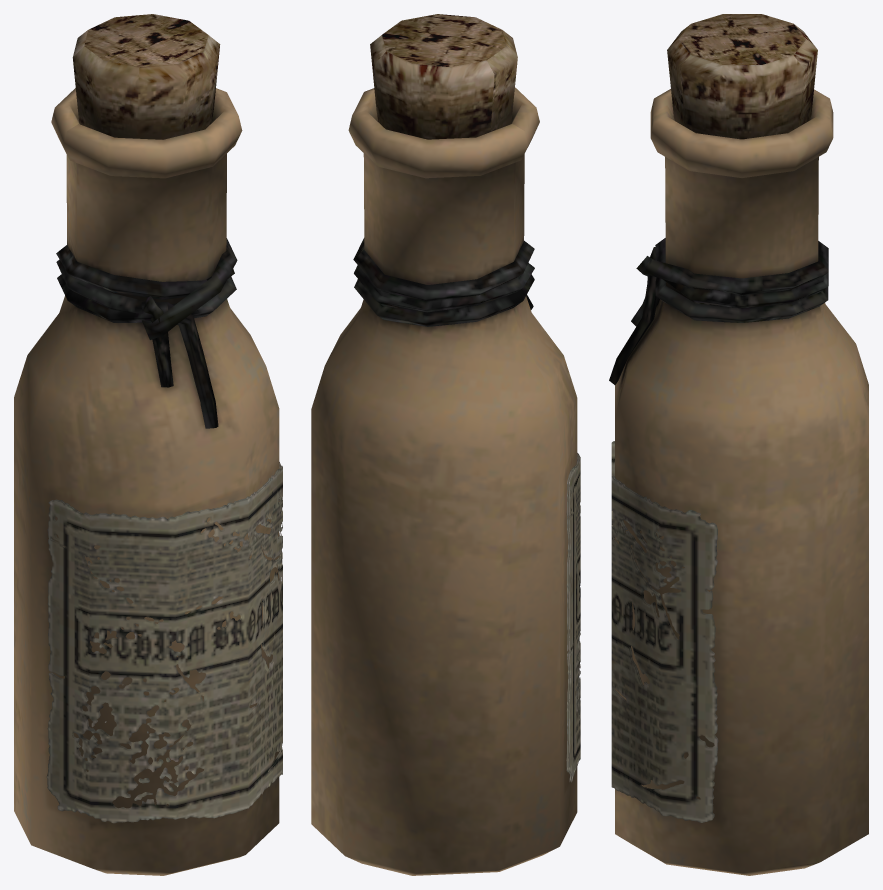
File: bottle_lithium_bromide.dae
The picture shows the model from 3 angles, left to right: view 1: azimuth 30°, elevation 25°; view 2: azimuth 150°, elevation 25°; view 3: azimuth 270°, elevation 25°; orthographic projection.
Parts seen in each view (by area): view 1: bottle_lithium_bromide, bottle_lithium_bromide_label, cork, bottle_lithium_bromide_string; view 2: bottle_lithium_bromide, cork, bottle_lithium_bromide_string, bottle_lithium_bromide_label; view 3: bottle_lithium_bromide, bottle_lithium_bromide_label, cork, bottle_lithium_bromide_string.
Part boxes in pixels (x1,y1,x2,y2): bottle_lithium_bromide: [14, 88, 279, 875]; bottle_lithium_bromide_label: [46, 462, 282, 823]; cork: [72, 14, 220, 139]; bottle_lithium_bromide_string: [56, 238, 237, 428]; bottle_lithium_bromide: [311, 87, 577, 875]; cork: [370, 14, 517, 139]; bottle_lithium_bromide_string: [353, 238, 534, 326]; bottle_lithium_bromide_label: [566, 453, 580, 782]; bottle_lithium_bromide: [615, 89, 868, 875]; bottle_lithium_bromide_label: [611, 441, 718, 822]; cork: [667, 14, 817, 139]; bottle_lithium_bromide_string: [609, 238, 828, 384].
Size of the model in its own units: 0.0681 by 0.2212 by 0.0663.
